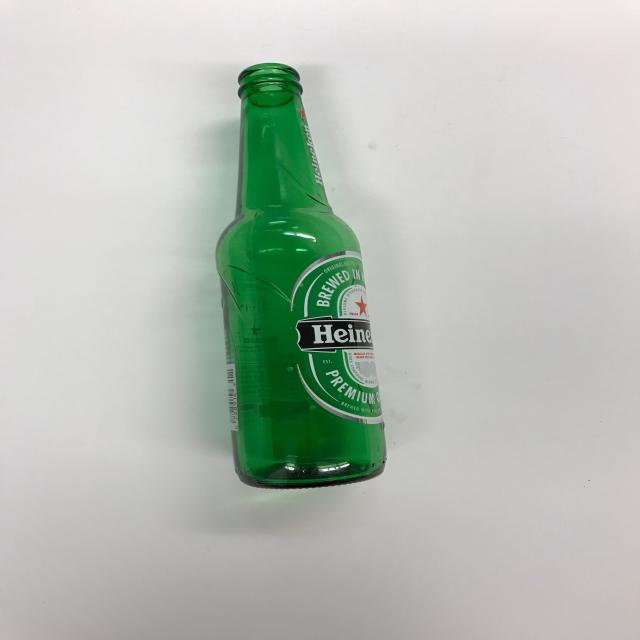glass: (215, 61, 388, 488)
